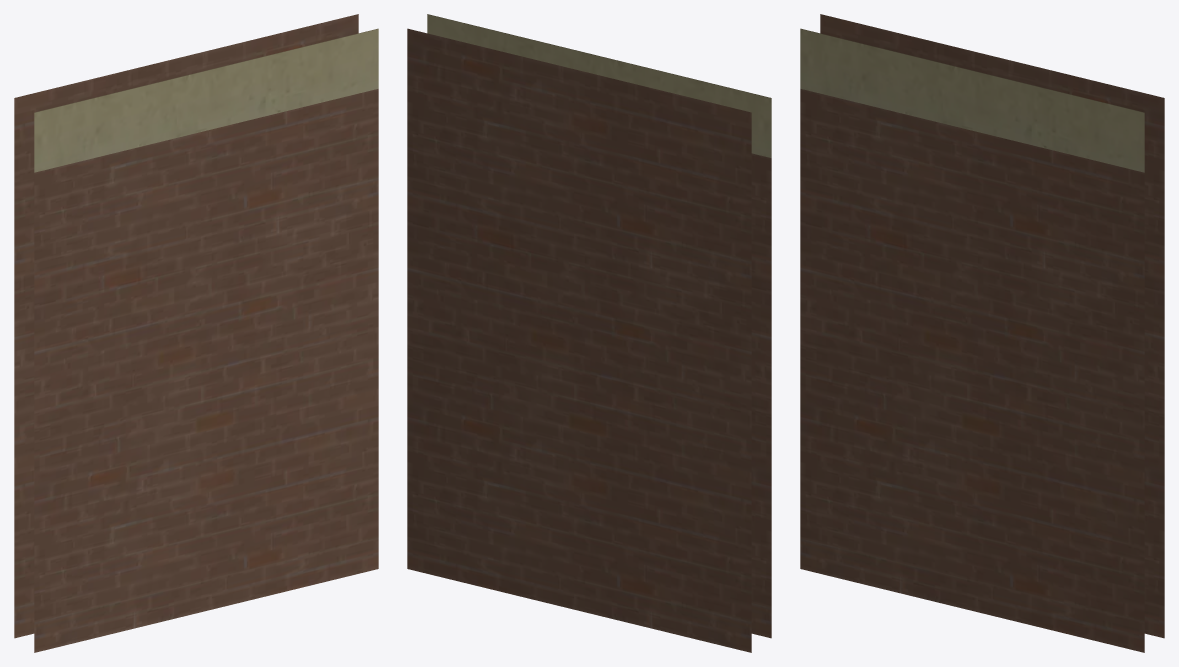
Rendered from Brick_TopTrim.glb.
The picture shows the model from 3 angles, left to right: view 1: azimuth 30°, elevation 25°; view 2: azimuth 150°, elevation 25°; view 3: azimuth 330°, elevation 25°; orthographic projection.
Parts seen in each view (by area): view 1: Brick_TopTrim; view 2: Brick_TopTrim; view 3: Brick_TopTrim.
Part boxes in pixels (<box>): Brick_TopTrim: <box>14,14,378,652</box>; Brick_TopTrim: <box>407,14,771,652</box>; Brick_TopTrim: <box>800,14,1164,652</box>.
Size of the model in its own units: 2 by 3 by 0.2.
2 materials, 2 textured.
